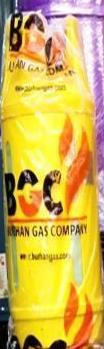cylinder: (1, 0, 104, 349)
